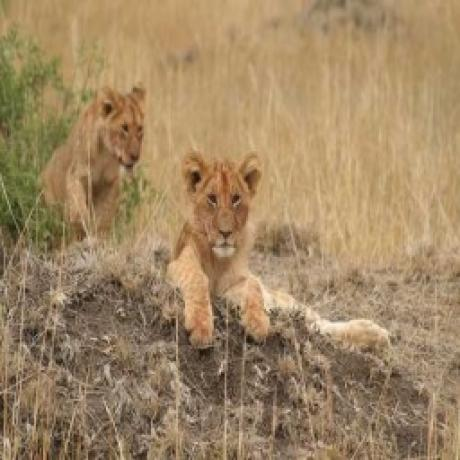Lion: (166, 148, 268, 348), (38, 83, 148, 241)
